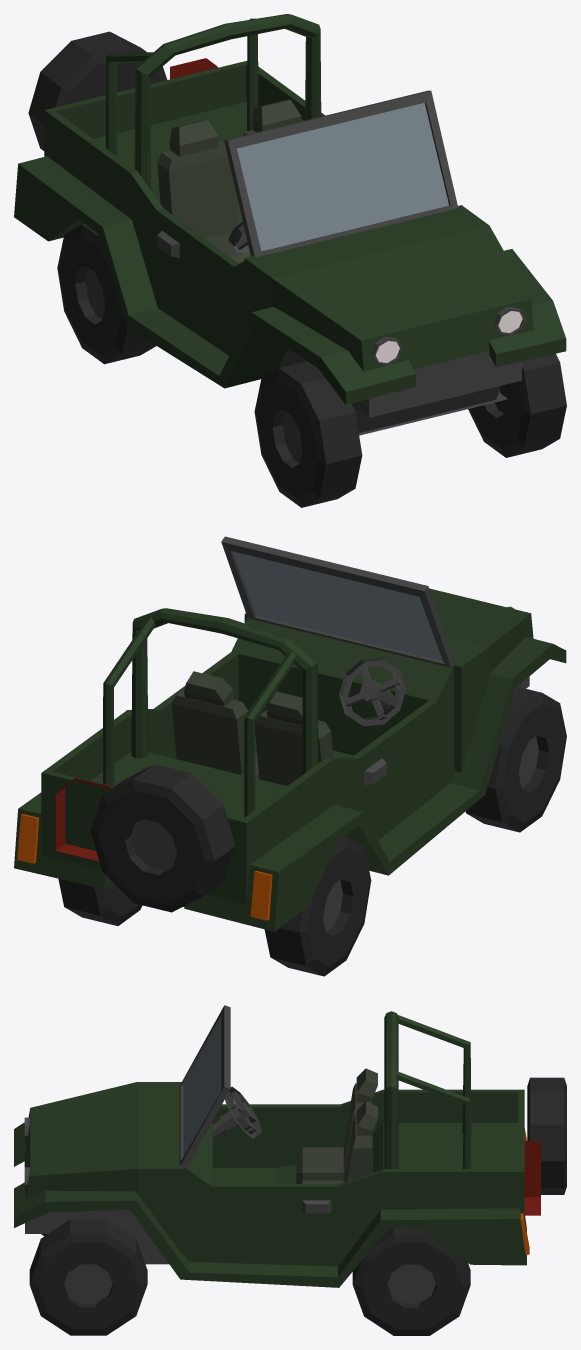
File: Jeep.glb
The picture shows the model from 3 angles, top to bottom: view 1: azimuth 30°, elevation 25°; view 2: azimuth 150°, elevation 25°; view 3: azimuth 270°, elevation 25°; orthographic projection. The views are drawn at different scales.
Visible parts, largest first — view 1: Jeep; view 2: Jeep; view 3: Jeep.
Part boxes in pixels (x1,y1,x2,y2): Jeep: [14, 14, 566, 507]; Jeep: [14, 536, 566, 976]; Jeep: [14, 1005, 566, 1335].
Size of the model in its own units: 2.04 by 2.33 by 4.56.
